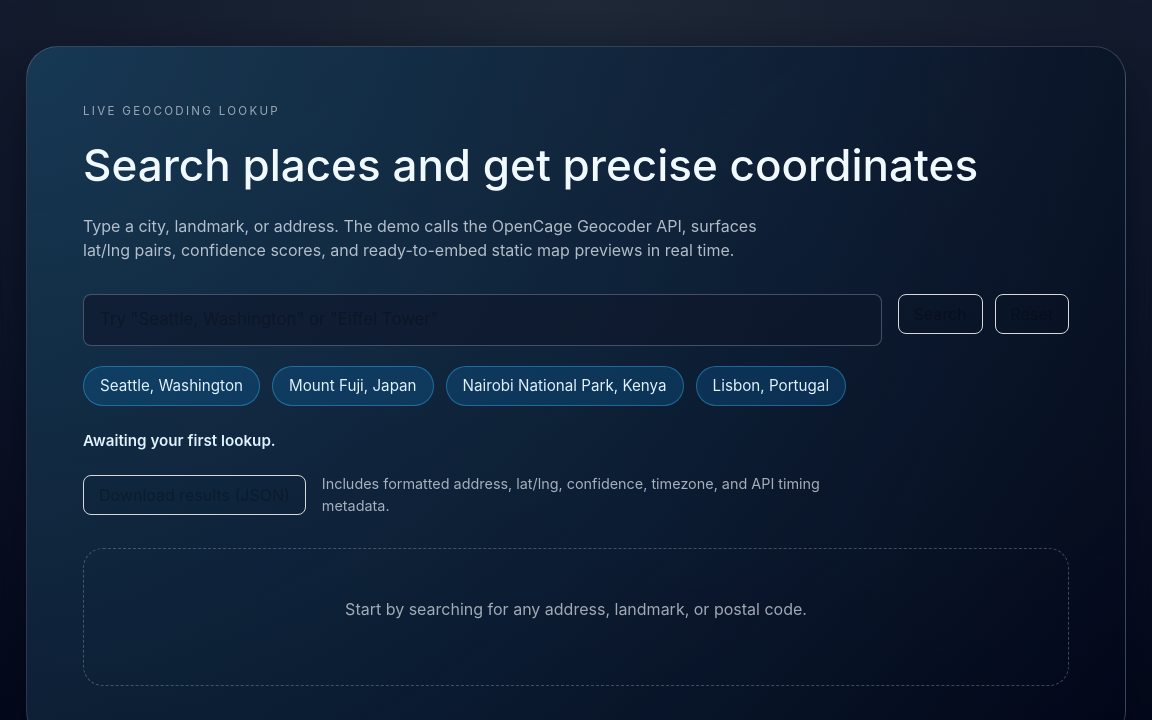
it: GeocodeSearchDemo › surfaces missing API key errors via the apiKey prop (negative)
The image size is (1152, 720).
Type "Paris" into the field named "search for a location" at (482, 320), box [83,294,882,346]
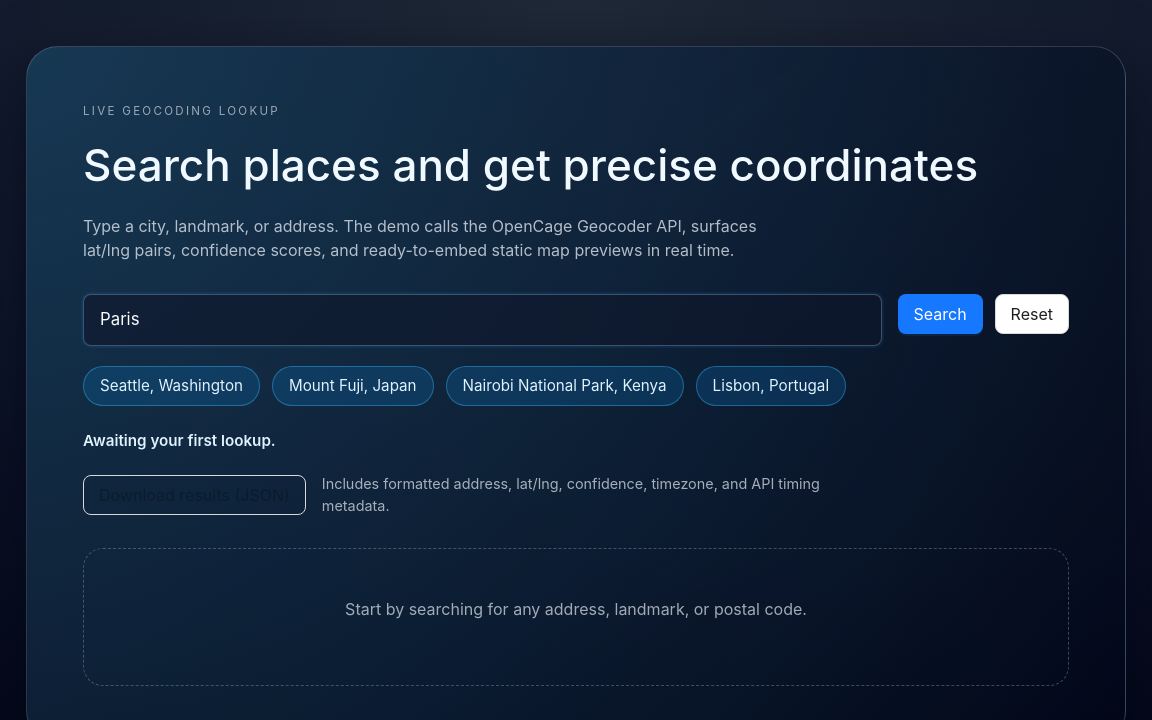
Click the button "Search" at (940, 314), box [898,294,983,334]
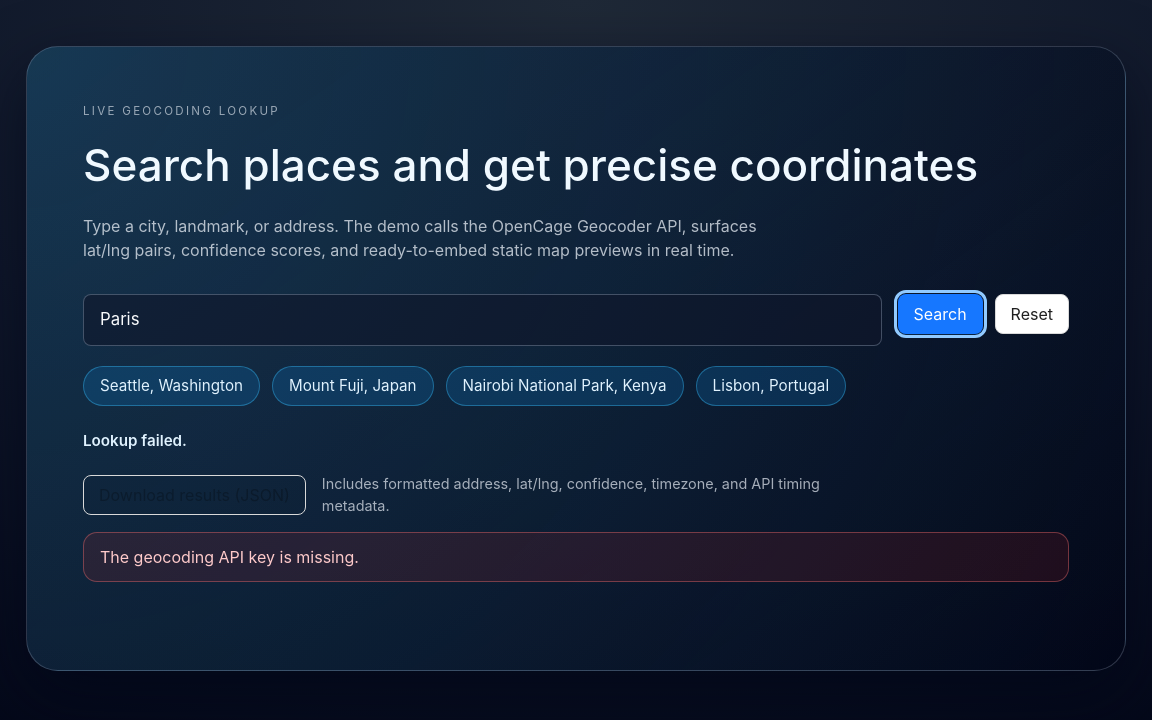
Expected: the text "The geocoding API key is missing." is shown, [83,532,1069,582]
